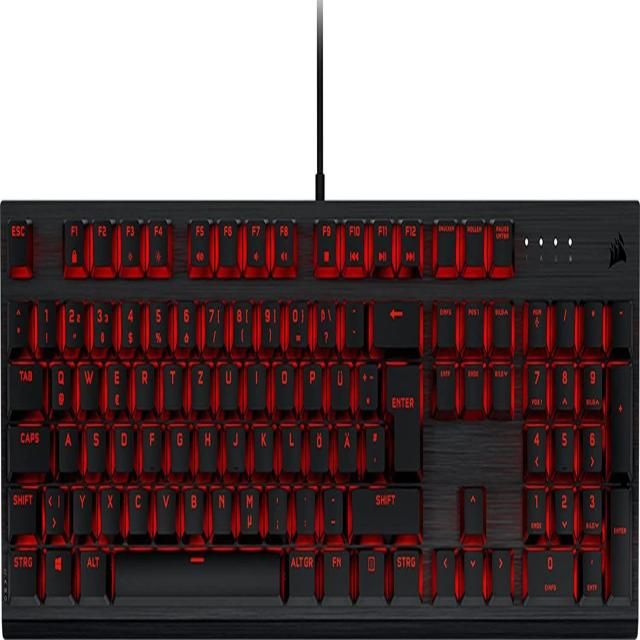0: (286, 295, 308, 347)
1: (36, 295, 57, 347)
2: (63, 297, 83, 349)
3: (90, 296, 112, 350)
4: (119, 296, 140, 348)
5: (147, 296, 169, 349)
6: (175, 294, 197, 348)
7: (203, 296, 224, 347)
8: (230, 296, 252, 348)
9: (258, 296, 279, 347)
a: (57, 420, 78, 471)
accent: (343, 295, 363, 346)
ae: (336, 419, 357, 471)
alt-left: (78, 544, 106, 595)
altgr-right: (287, 545, 316, 596)
b: (182, 481, 204, 532)
c: (127, 481, 148, 532)
caret: (7, 295, 27, 346)
comma: (266, 482, 287, 535)
d: (113, 419, 134, 470)
del: (372, 295, 419, 346)
e: (106, 358, 127, 408)
enter: (385, 357, 420, 472)
f: (142, 419, 161, 469)
g: (169, 419, 189, 470)
h: (197, 419, 217, 469)
hash: (364, 419, 384, 470)
i: (246, 358, 266, 407)
j: (226, 418, 245, 469)
k: (253, 419, 273, 470)
keyboard: (0, 192, 639, 638)
l: (280, 419, 300, 469)
less: (42, 481, 65, 534)
m: (238, 482, 259, 534)
minus: (322, 482, 342, 531)
n: (211, 482, 232, 533)
o: (273, 357, 294, 407)
oe: (308, 419, 328, 471)
p: (301, 358, 322, 408)
plus: (356, 356, 377, 410)
point: (295, 482, 315, 531)
q: (49, 357, 71, 408)
r: (134, 358, 155, 407)
s: (85, 419, 106, 471)
shift-left: (8, 483, 36, 534)
shift-lock: (8, 419, 50, 472)
shift-right: (351, 482, 420, 533)
space: (113, 546, 281, 599)
ss: (315, 296, 336, 347)
strg-left: (8, 545, 37, 596)
strg-right: (391, 545, 421, 596)
t: (162, 357, 182, 407)
tab: (8, 358, 43, 408)
u: (218, 357, 238, 407)
ue: (329, 357, 349, 409)
v: (156, 482, 176, 533)
w: (78, 358, 99, 408)
x: (100, 481, 120, 532)
y: (72, 482, 92, 532)
z: (190, 357, 211, 407)
